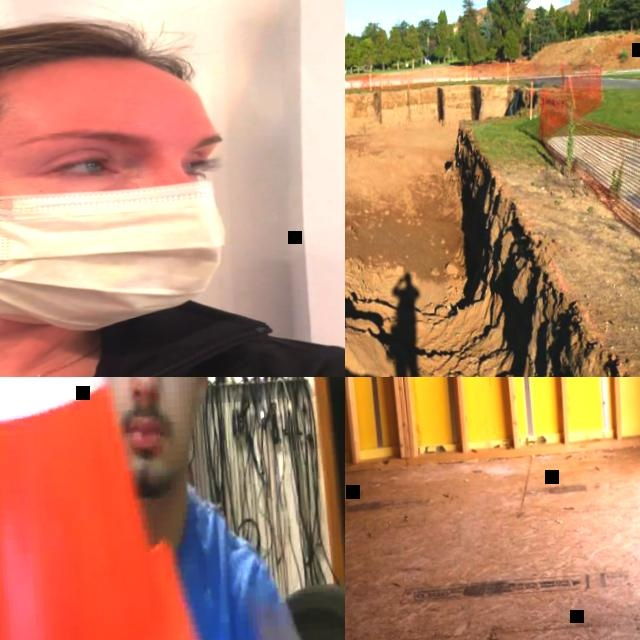Mask: (0, 145, 233, 343)
NO-Hardhat: (0, 10, 210, 136)
NO-Mask: (116, 395, 186, 490)
NO-Safety Vest: (158, 512, 264, 640)
Person: (0, 0, 345, 377), (67, 377, 297, 640)
Safety Cone: (0, 377, 215, 640)
